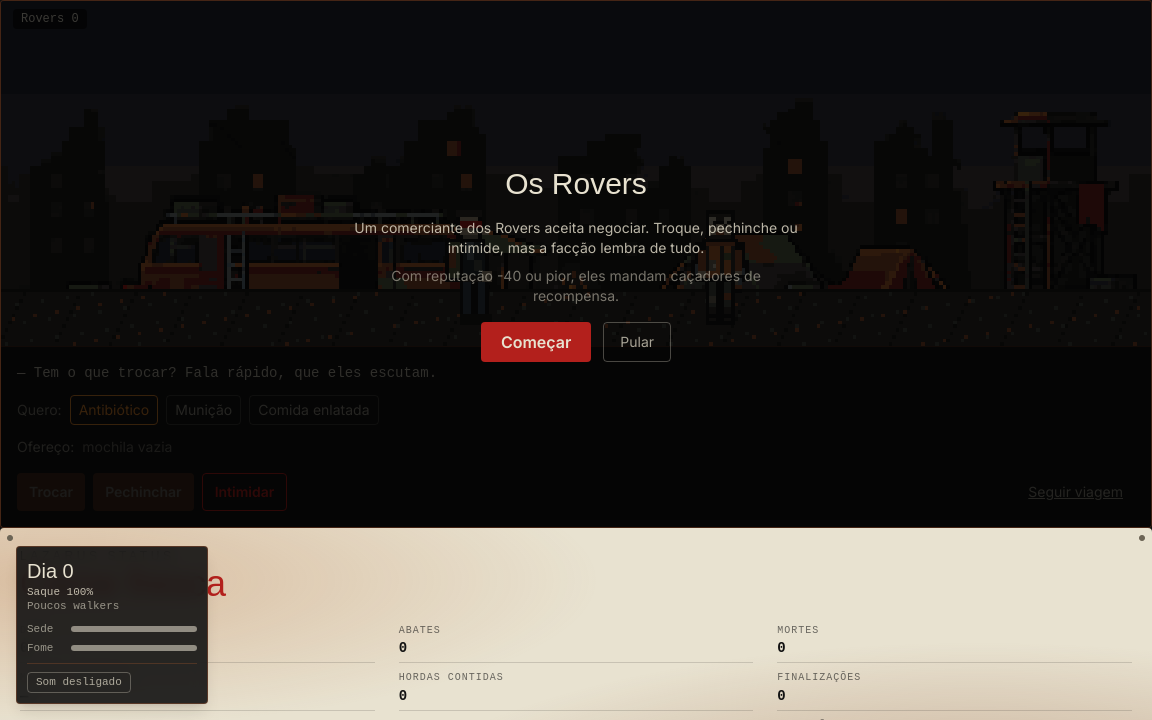
Test: TraderGame › leaving ends the encounter
Click the button "Começar" at (536, 342), box [481, 322, 591, 362]
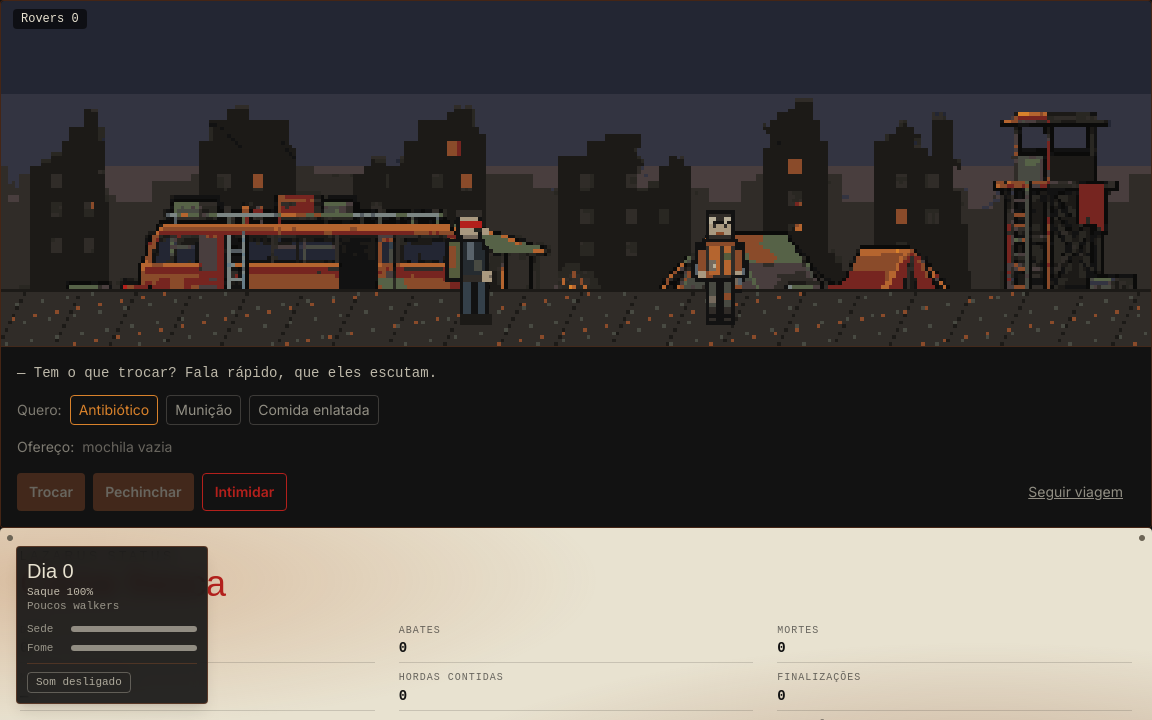
Click the button "Seguir viagem" at (1076, 492), box [1016, 473, 1135, 511]
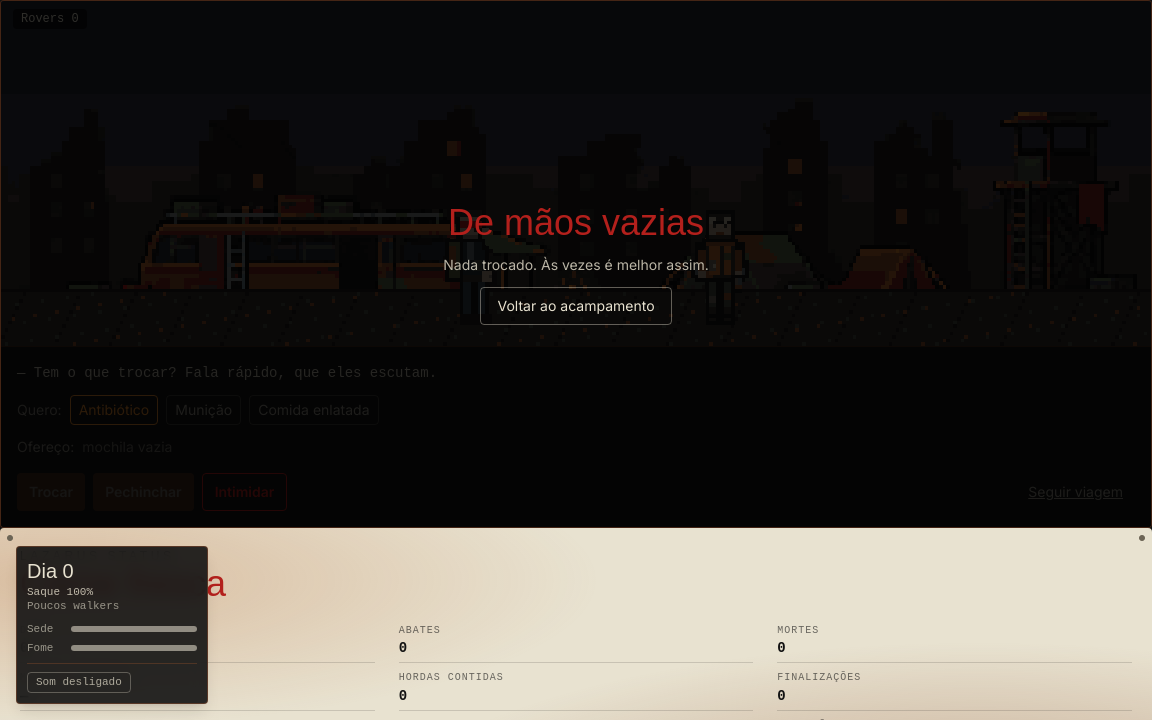
Now the heading "De mãos vazias" is shown, box [448, 203, 704, 243]
